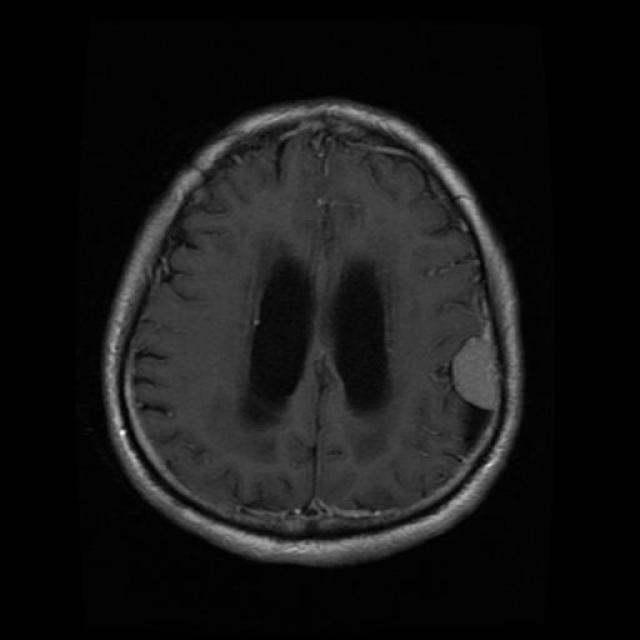meningioma: (449, 314, 501, 412)
